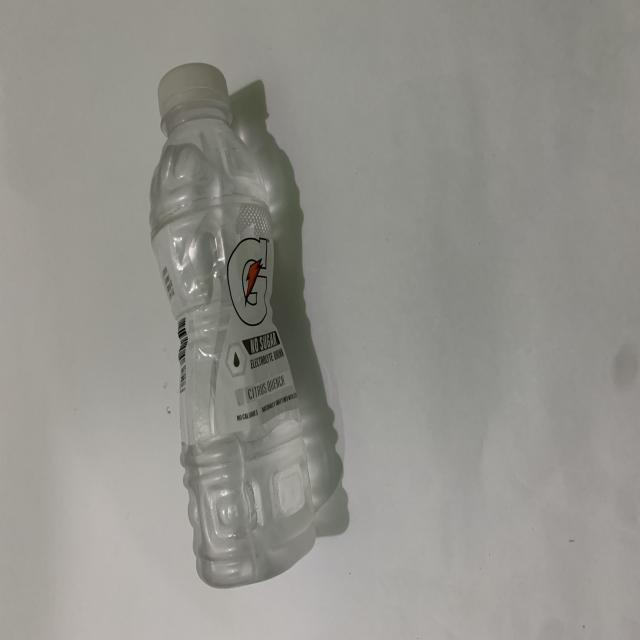bottle: (124, 20, 355, 604)
